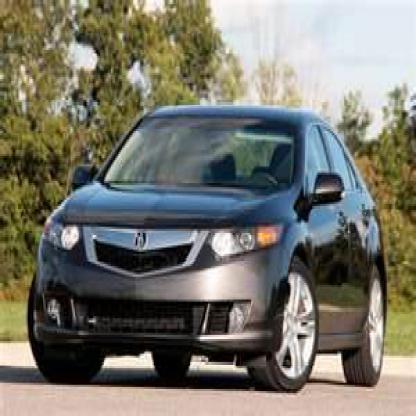Vehicle: (27, 102, 392, 397)
